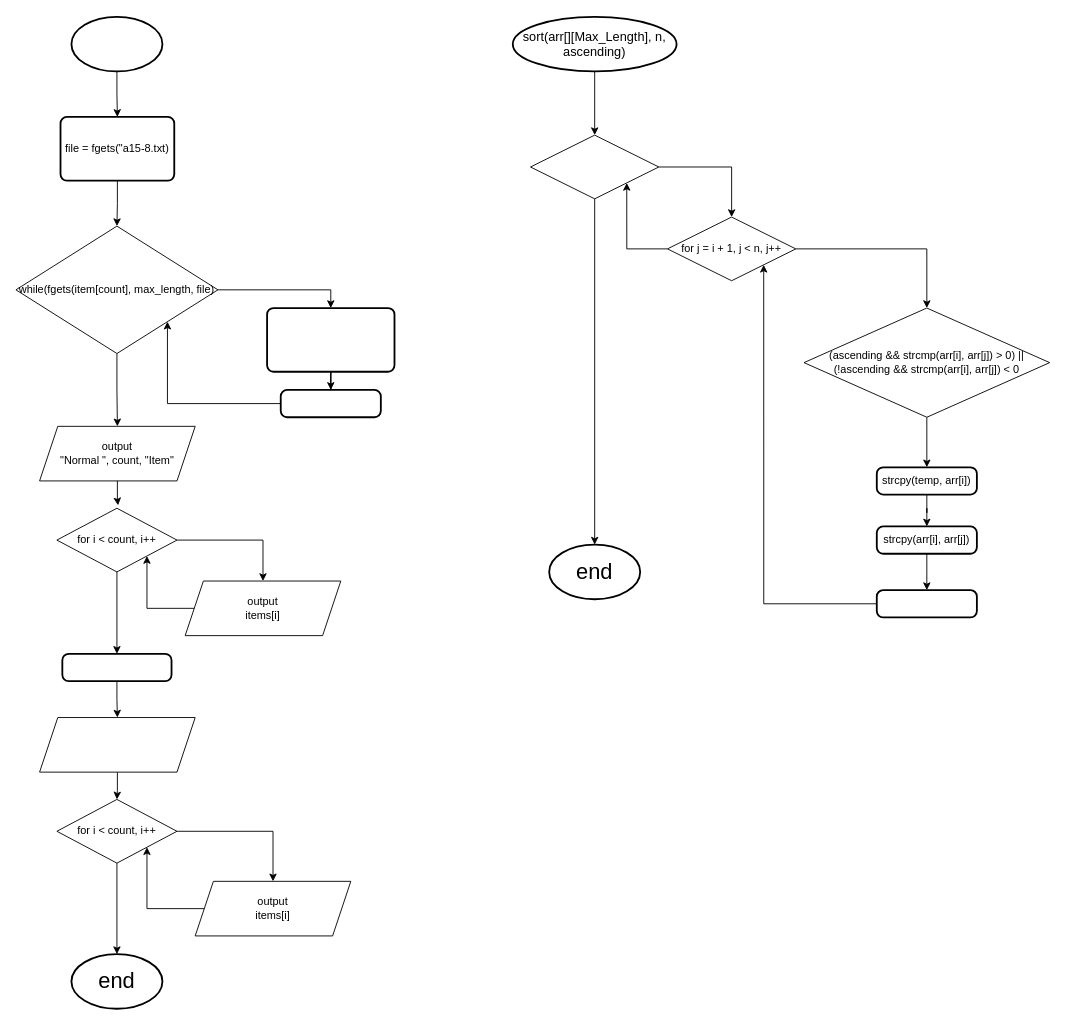
This 1066x1025 diagram has some shape labels left out. The box of each missing label's shape, as (x1, y1, x2, y2) in pixels:
count ++: (279, 389, 381, 418)
for i < n - 1, i++: (530, 134, 659, 199)
items[count][strcspn(item[count])] = 0: (266, 307, 395, 372)
output "Sort (Z to A) : ": (39, 717, 195, 772)
sort(items, count, 1): (61, 652, 172, 682)
start: (70, 15, 163, 72)
strcpy(arr[j], temp): (875, 589, 977, 618)
